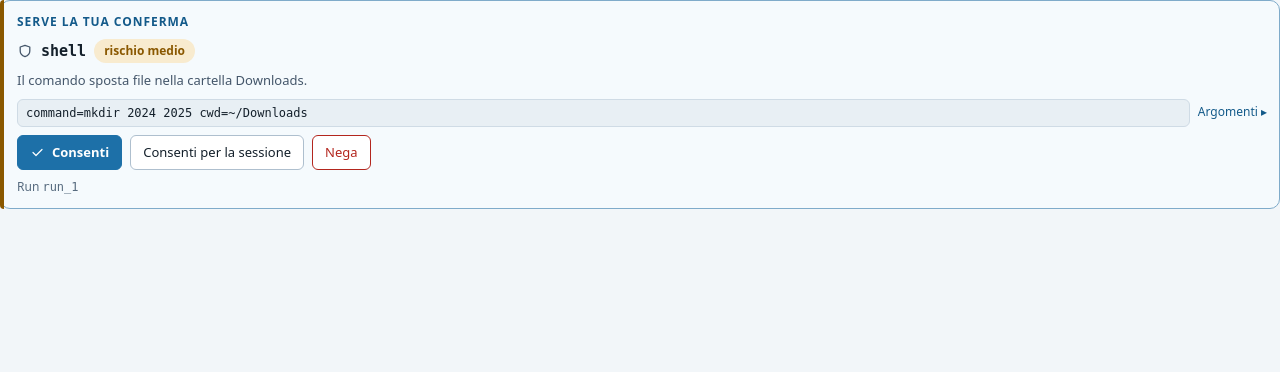
Test: ApprovalCard › the arguments are one line, and the JSON opens on demand with its colours
Expected: the text with class "apv-summary" shows "mkdir 2024 2025", [26,106,308,120]
What coordinates should you click on to do the following:
click the text "Argomenti"
I would click on:
 (1232, 110)
Its box is [1198,98,1267,120].
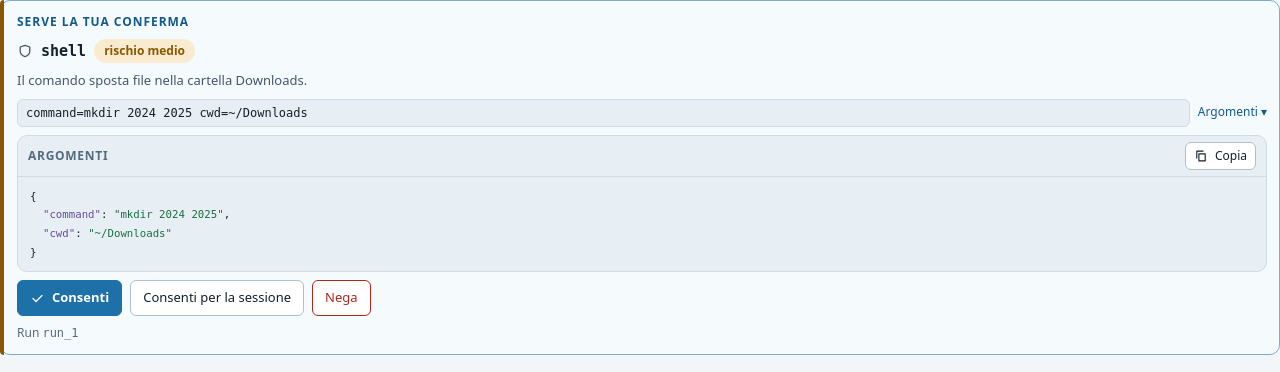
Result: the text "\"command\"" is shown at [43,208,101,221]
